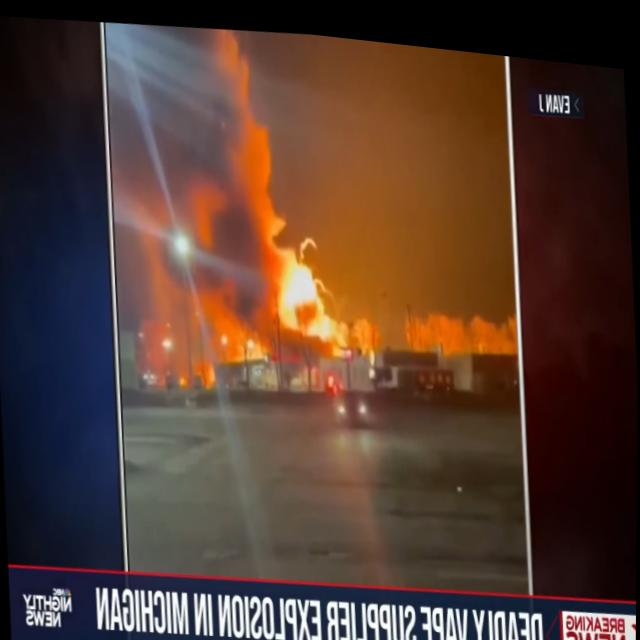Fire: (106, 10, 370, 379)
